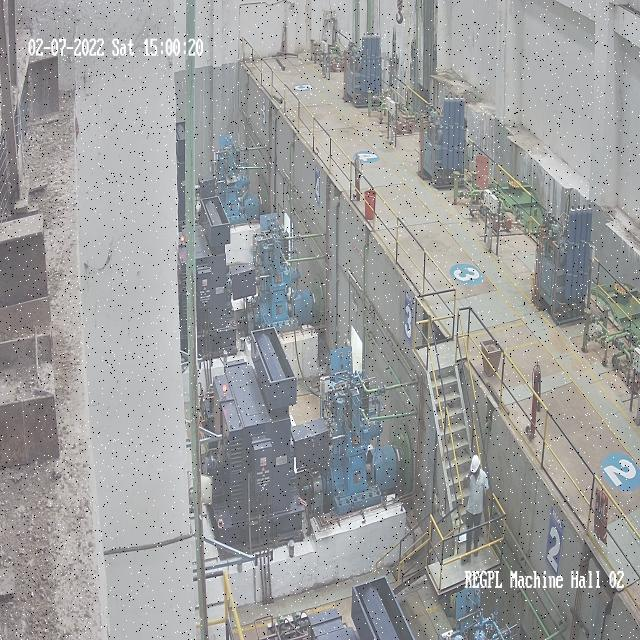Boots: (461, 552, 472, 564), (472, 547, 479, 556)
Helmet: (470, 454, 481, 472)
